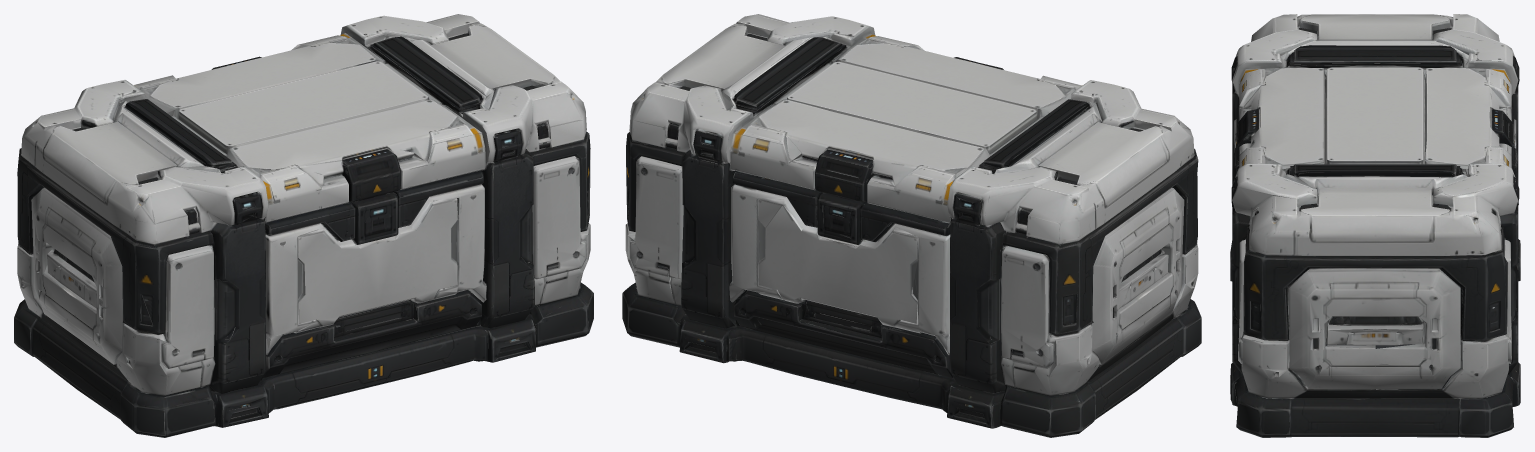
The model's file is obj_futuristic_box.glb.
3 views of the same model, side by side, from view 1: azimuth 30°, elevation 25°; view 2: azimuth 150°, elevation 25°; view 3: azimuth 270°, elevation 25° (orthographic). The views are drawn at different scales.
Bounding box in the file's own units: 0.9526 × 0.4602 × 0.5391.
Materials: 1 (1 with a texture image).
